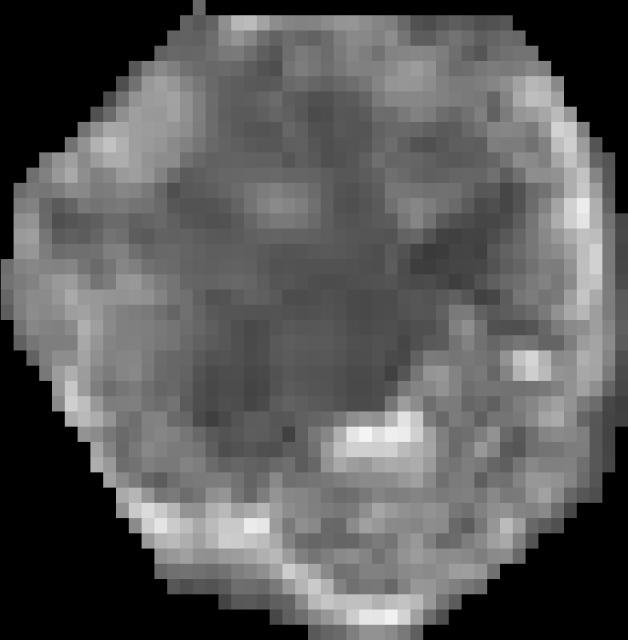tumor_good_chance: (1, 0, 628, 640)
